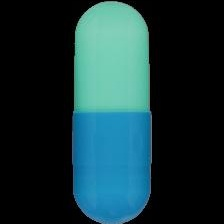68788-6794: (0, 0, 224, 224)
